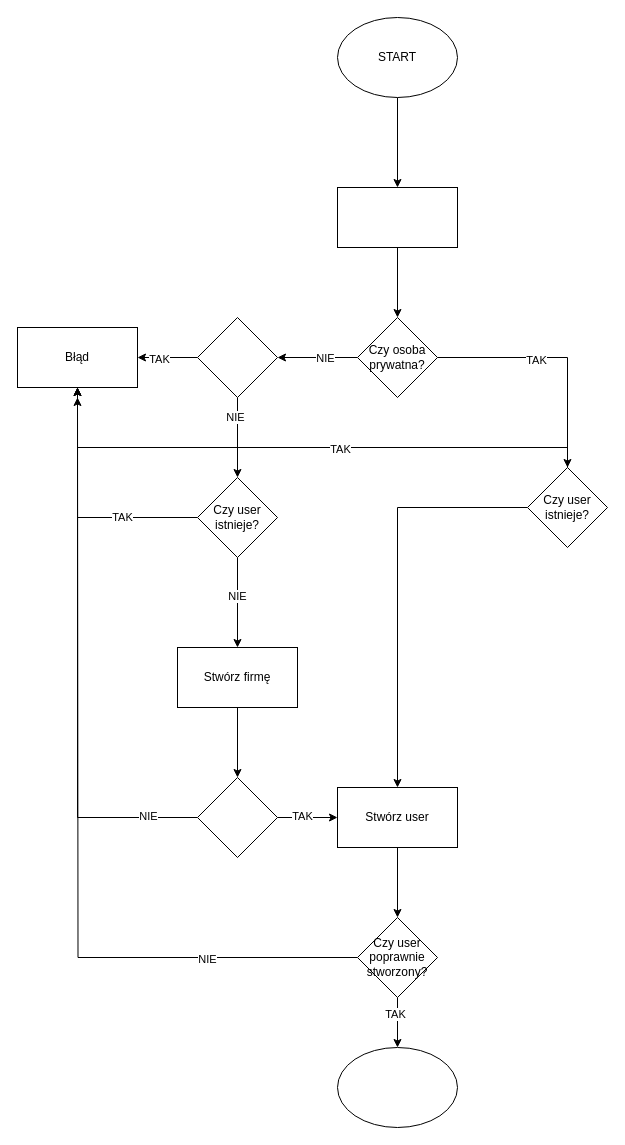
Image size: 625x1145. Some labels were removed from this diagram. Here are the shapes that lost their labels. From the top down, the centre of each, then its label:
At point (397, 217): "Zarejestruj".
At point (237, 357): "Czy firma istnieje w bazie?".
At point (237, 817): "Czy firma poprawnie stworona".
At point (397, 1087): "KONIEC".
